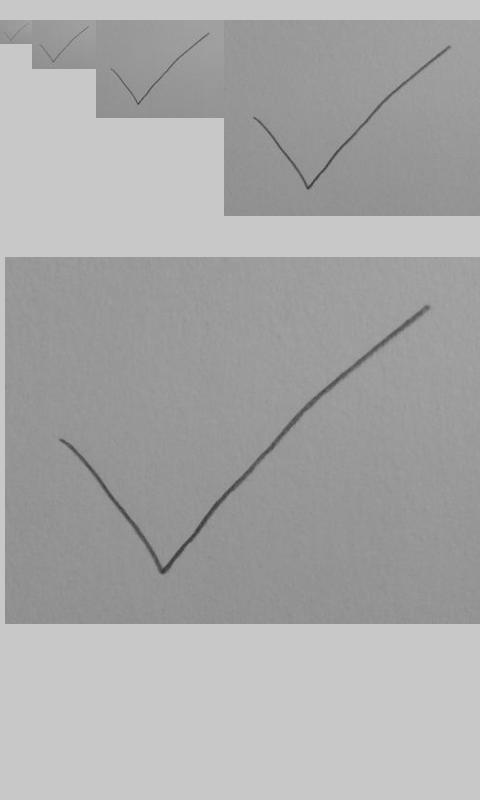check_box: (59, 307, 431, 576), (254, 45, 449, 191), (110, 33, 208, 105), (40, 26, 89, 63), (4, 23, 26, 42)
